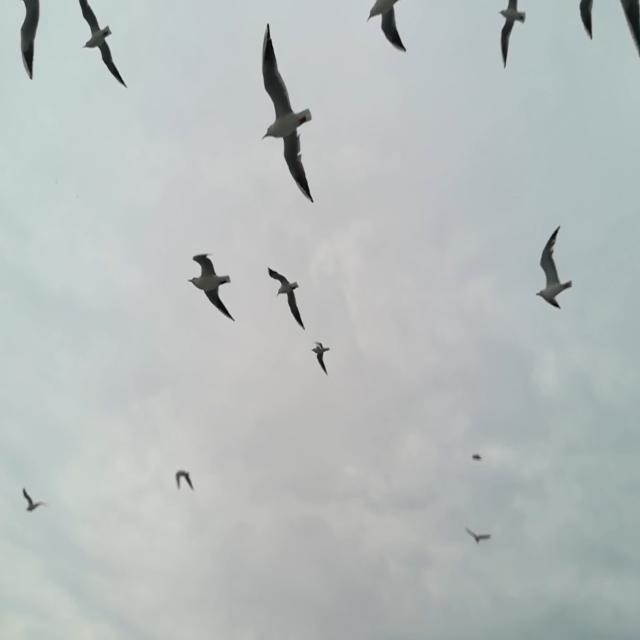bird: (258, 25, 316, 206), (79, 2, 128, 90), (189, 252, 236, 322), (536, 226, 574, 311), (365, 0, 414, 53), (12, 1, 42, 85), (268, 268, 306, 330), (498, 0, 526, 69), (619, 0, 640, 63), (578, 0, 596, 41), (310, 344, 330, 377), (22, 490, 49, 514), (464, 525, 492, 547), (176, 469, 196, 491), (472, 452, 482, 462)
